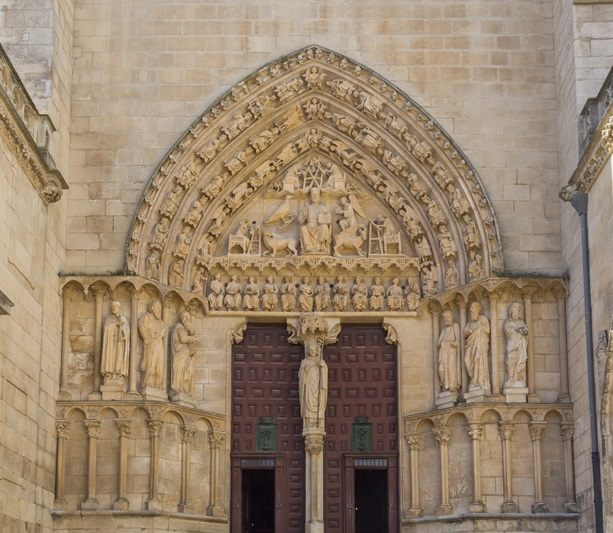arco-apuntado: (120, 41, 507, 276)
